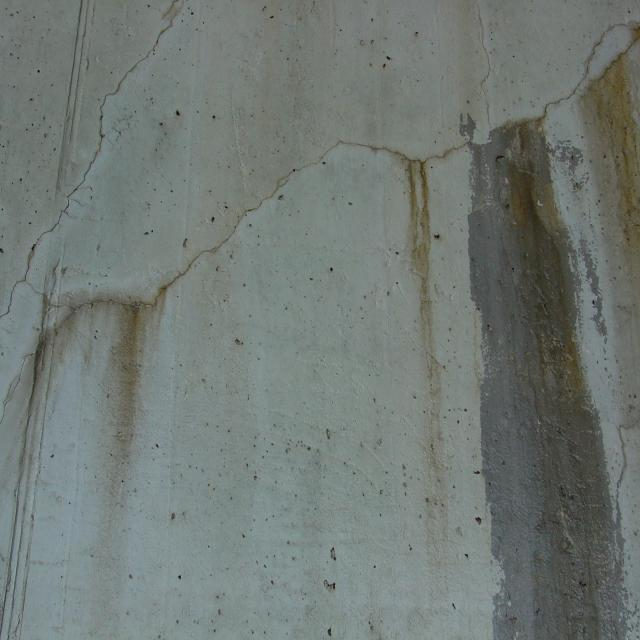corrosion: (391, 17, 640, 558), (6, 276, 174, 620)
